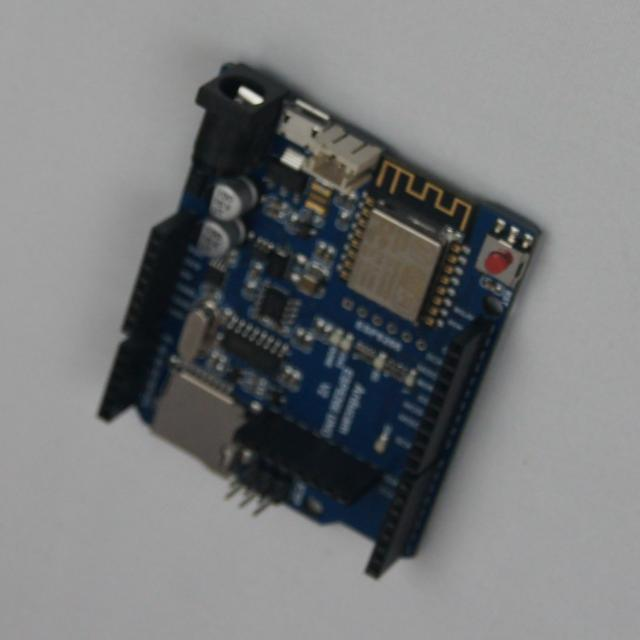Arduino Uno Camera Shield: (99, 64, 540, 578)
